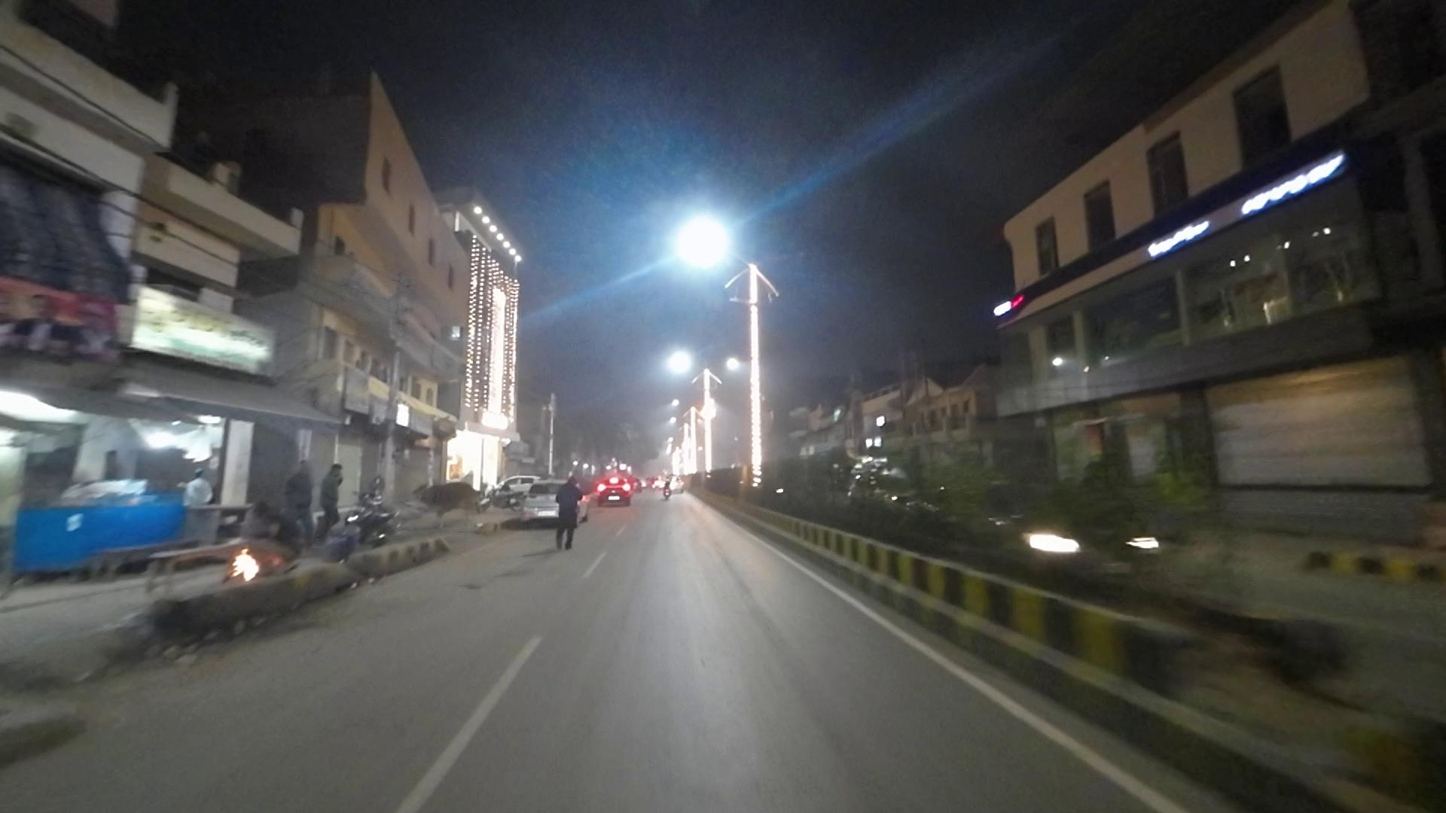streetlight: (754, 249, 806, 262)
